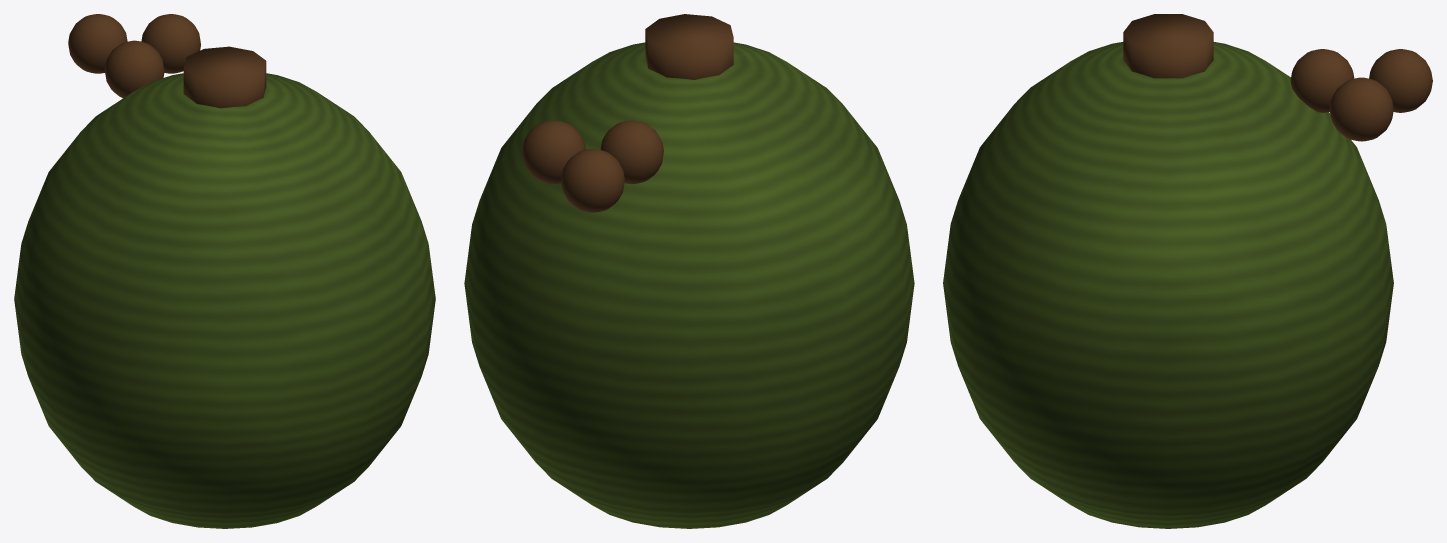
The model's file is Kokoye.fbx.
3 renders of one model, left to right at view 1: azimuth 30°, elevation 25°; view 2: azimuth 150°, elevation 25°; view 3: azimuth 270°, elevation 25°, orthographic. The views are drawn at different scales.
Visible parts, largest first — view 1: Kokoye; view 2: Kokoye; view 3: Kokoye.
Boxes of the visible parts, <box> form: Kokoye: <box>14,14,435,528</box>; Kokoye: <box>464,14,914,528</box>; Kokoye: <box>943,14,1432,528</box>.
Bounding box in the file's own units: 0.7 × 0.822 × 0.7606.
